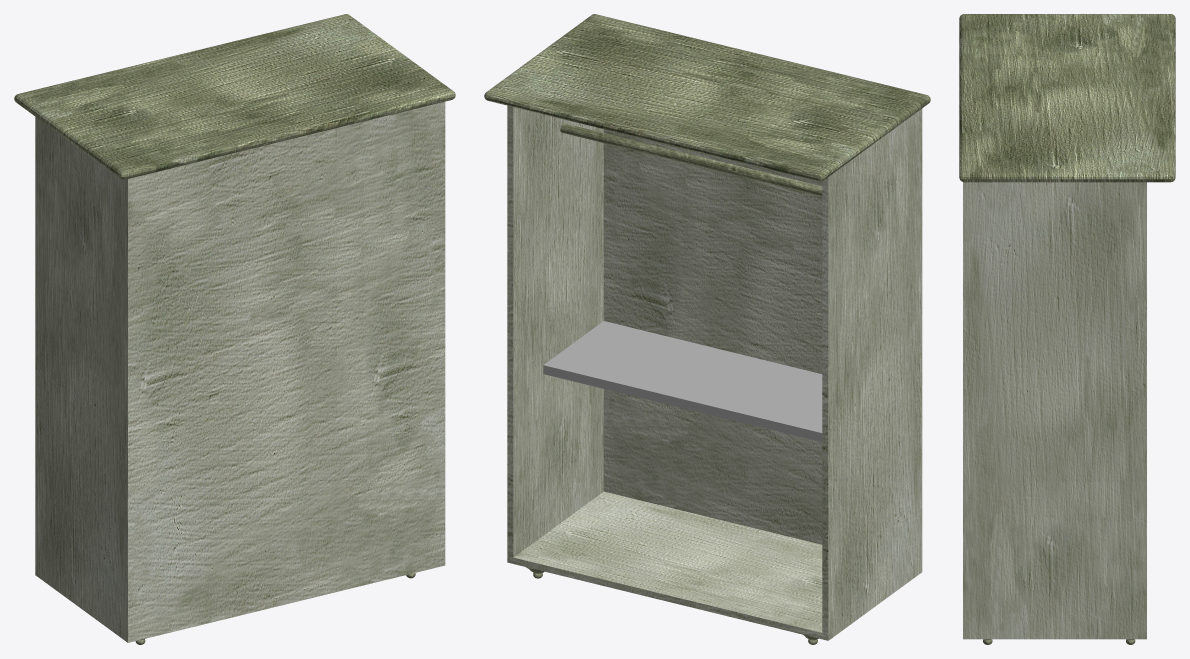
File: closet1.fbx
The picture shows the model from 3 angles, left to right: view 1: azimuth 30°, elevation 25°; view 2: azimuth 150°, elevation 25°; view 3: azimuth 270°, elevation 25°; orthographic projection.
Visible parts, largest first — view 1: Box20; view 2: Box20; view 3: Box20.
Boxes of the visible parts, x1,y1,x2,y2 form: Box20: [14, 14, 455, 644]; Box20: [484, 14, 930, 644]; Box20: [959, 14, 1175, 644].
Bounding box in the file's own units: 1.6 × 0.9 × 2.22.
Materials: 3 (2 with a texture image).
